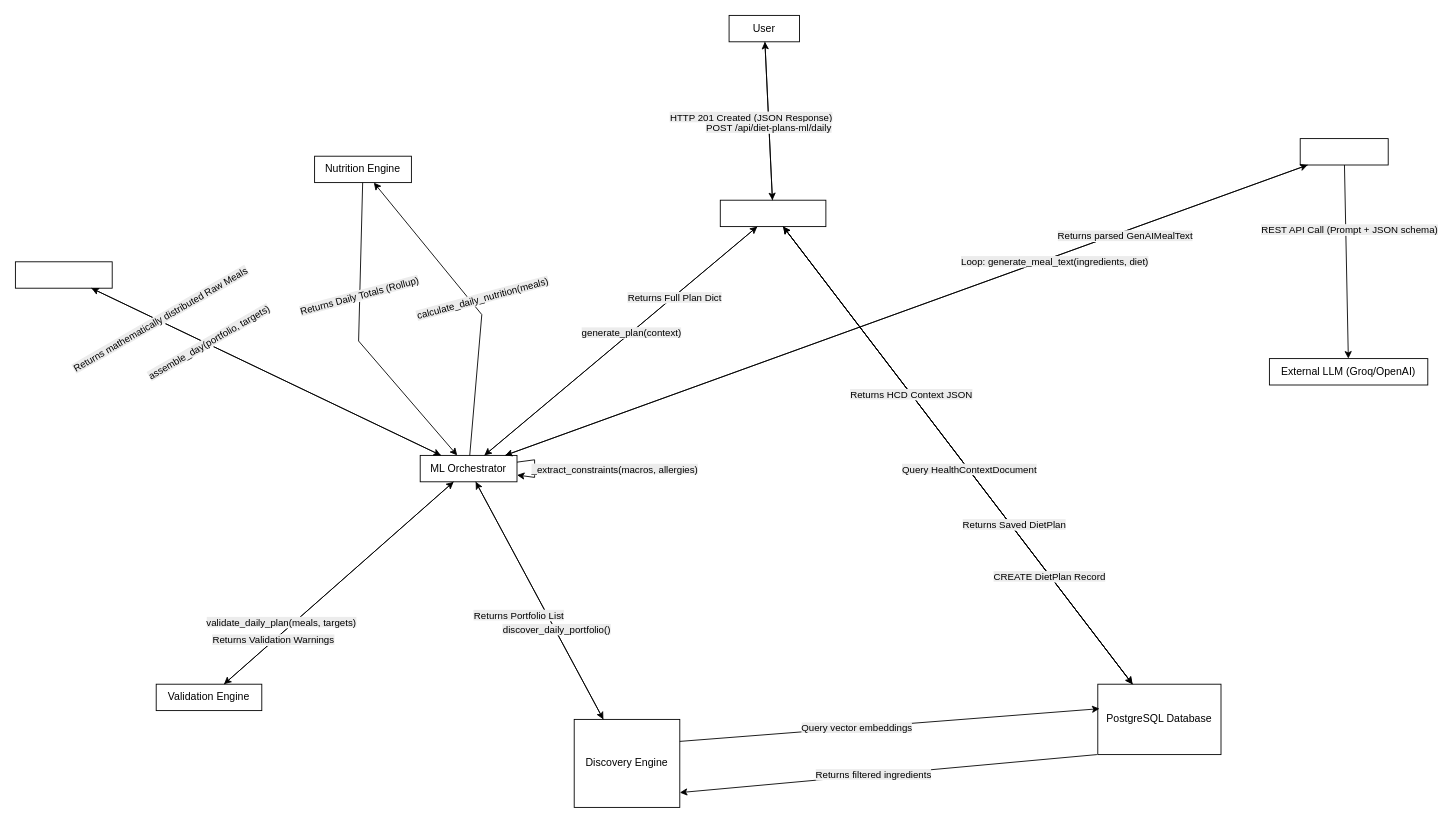
Image size: 1454x823. Some labels were removed from this diagram. The centre of each missing label's shape, as x and y in pixels:
"Daily Assembler" belongs at (x=63, y=274).
"FastAPI Endpoints" belongs at (x=772, y=213).
"GenAI Service" belongs at (x=1343, y=151).
